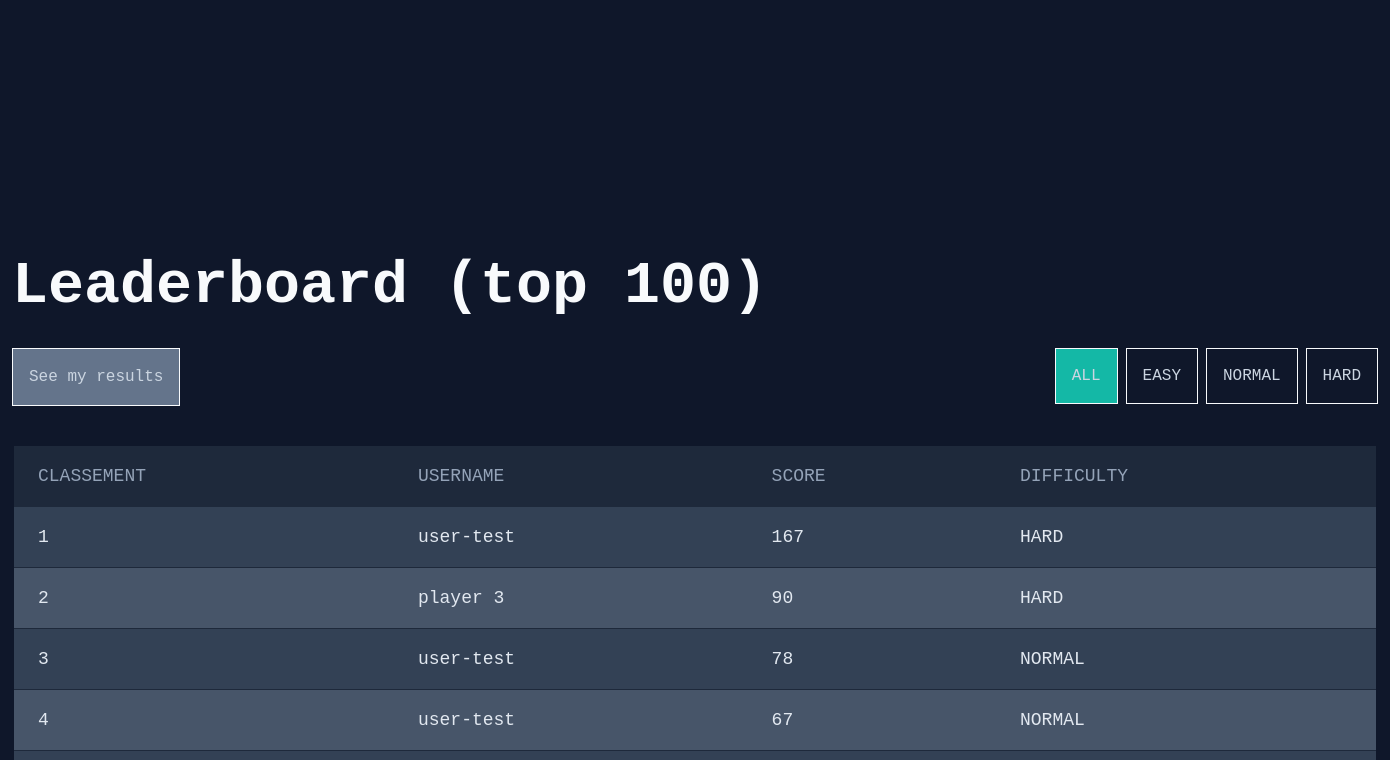
it: display of all difficulty results after click on hard button then on all button
The image size is (1390, 760).
(page scrolled)
Click the button "HARD": click(1342, 376) top-left (1306, 348), bottom-right (1378, 404)
(page scrolled)
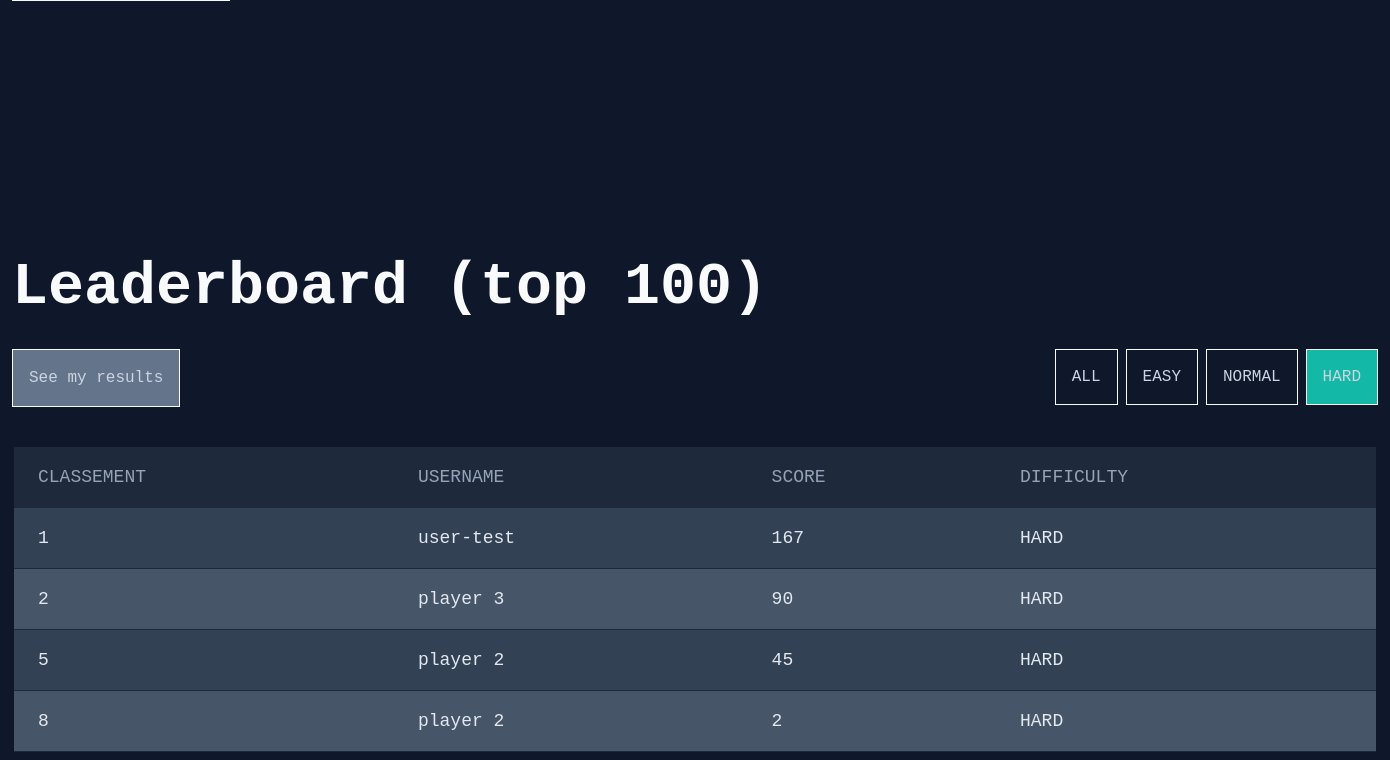
expect the number of cells with test id "hardCell" is 4: met, box top-left (996, 508), bottom-right (1376, 568); top-left (996, 568), bottom-right (1376, 630); top-left (996, 630), bottom-right (1376, 690); top-left (996, 690), bottom-right (1376, 752)
Click the button "ALL": click(1086, 377) top-left (1055, 349), bottom-right (1118, 405)
(page scrolled)
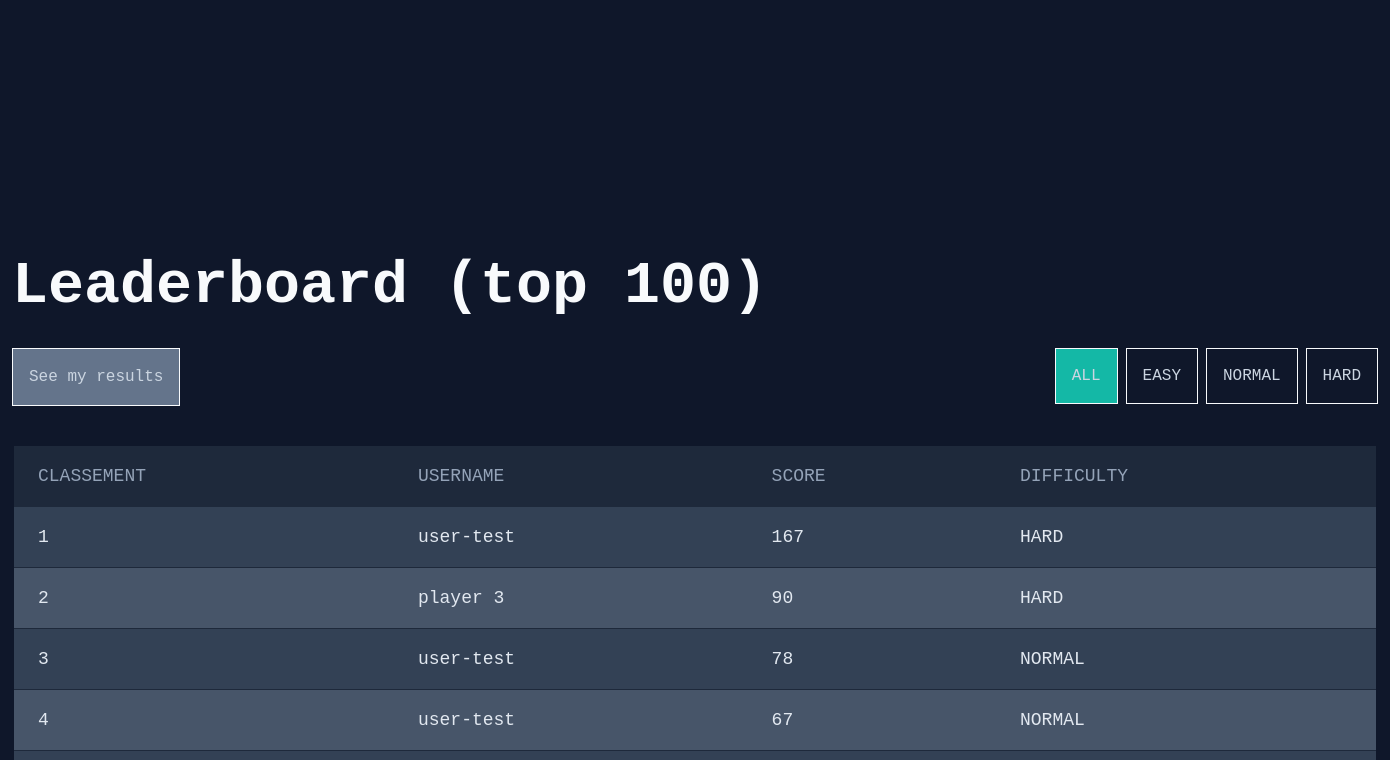
expect the number of rows with test id "gridRow" is 8: met
